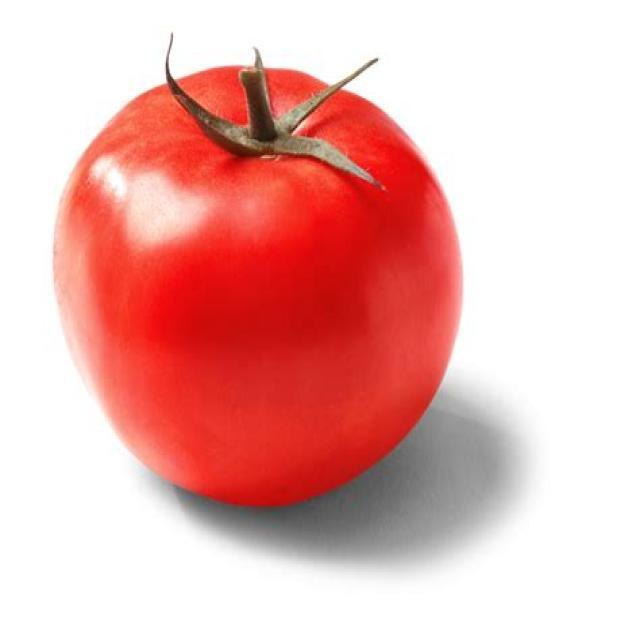Tomato: (51, 53, 465, 511)
